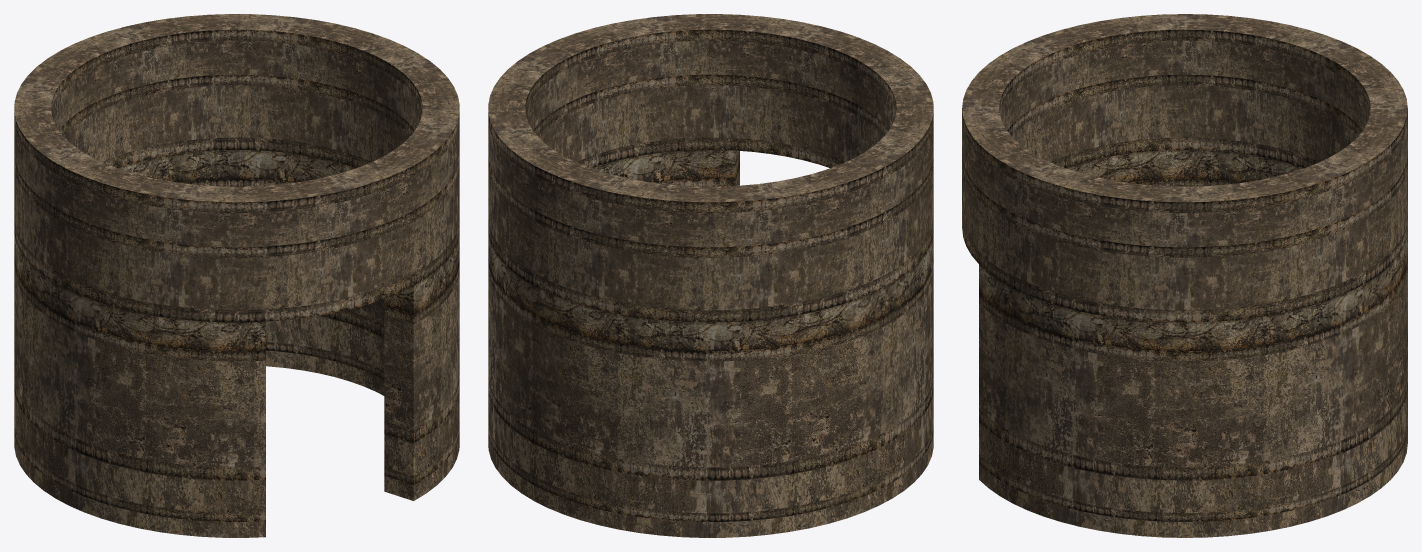
File: materials_5_wall_cylinder_15.fbx
3 views of the same model, side by side, from view 1: azimuth 30°, elevation 25°; view 2: azimuth 150°, elevation 25°; view 3: azimuth 270°, elevation 25° (orthographic).
Parts seen in each view (by area): view 1: materials_5_wall_cylinder_15; view 2: materials_5_wall_cylinder_15; view 3: materials_5_wall_cylinder_15.
Part boxes in pixels (bbox=[...]): materials_5_wall_cylinder_15: bbox=[14, 14, 459, 537]; materials_5_wall_cylinder_15: bbox=[488, 14, 933, 537]; materials_5_wall_cylinder_15: bbox=[962, 14, 1407, 537].
Size of the model in its own units: 288 by 240 by 288.
